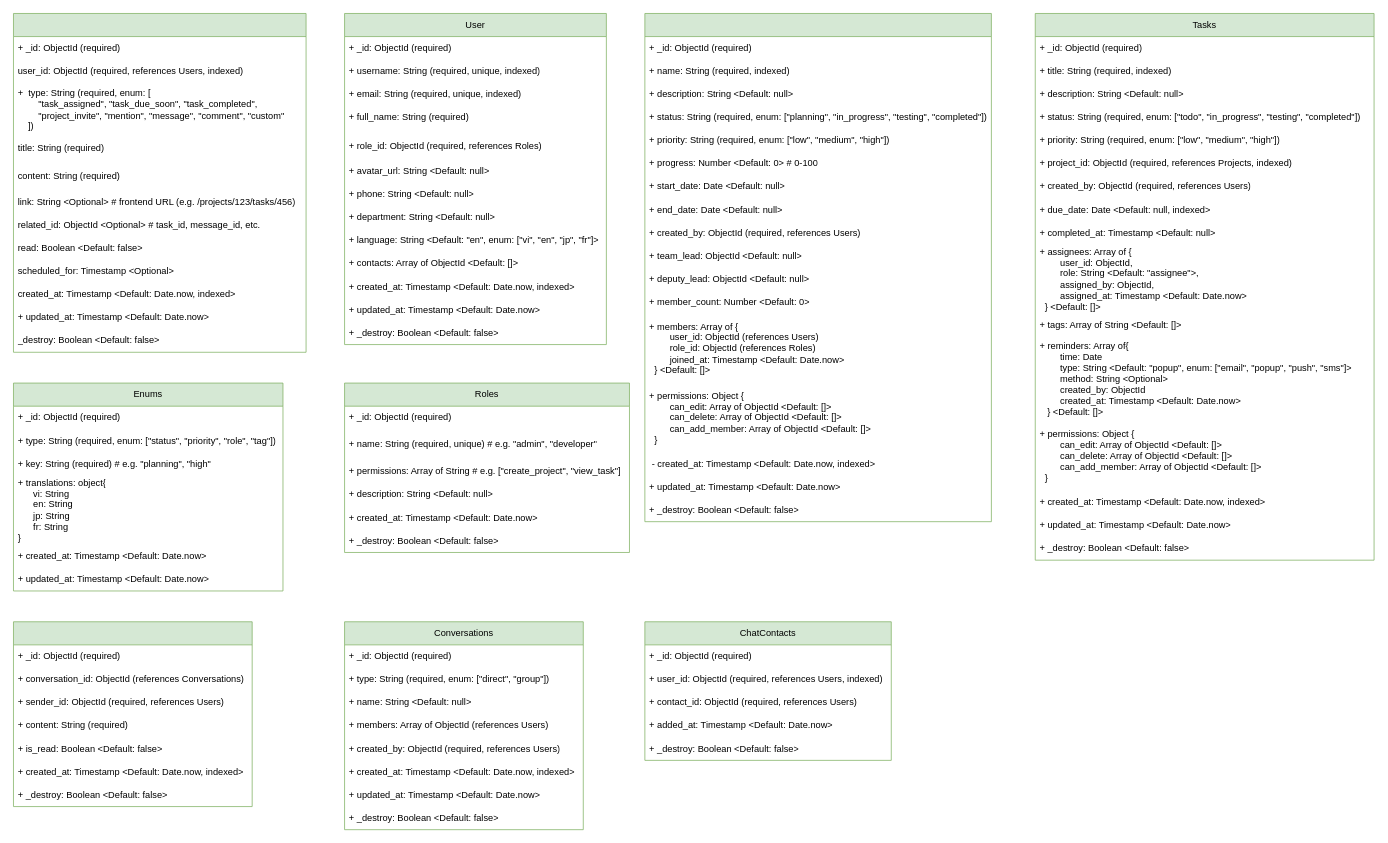
This 1388x843 diagram has some shape labels left out. The shapes that lost their labels are listed below. From the top down, each one's box as (x1, y1, x2, y2) in pixels, then its label:
(13, 13, 306, 352): Notifications
(644, 13, 991, 522): Projects
(13, 621, 252, 807): Messages
